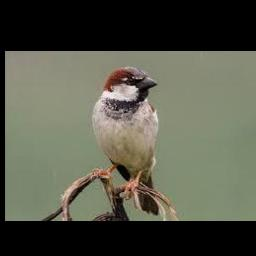Sparrow: (91, 66, 160, 215)
